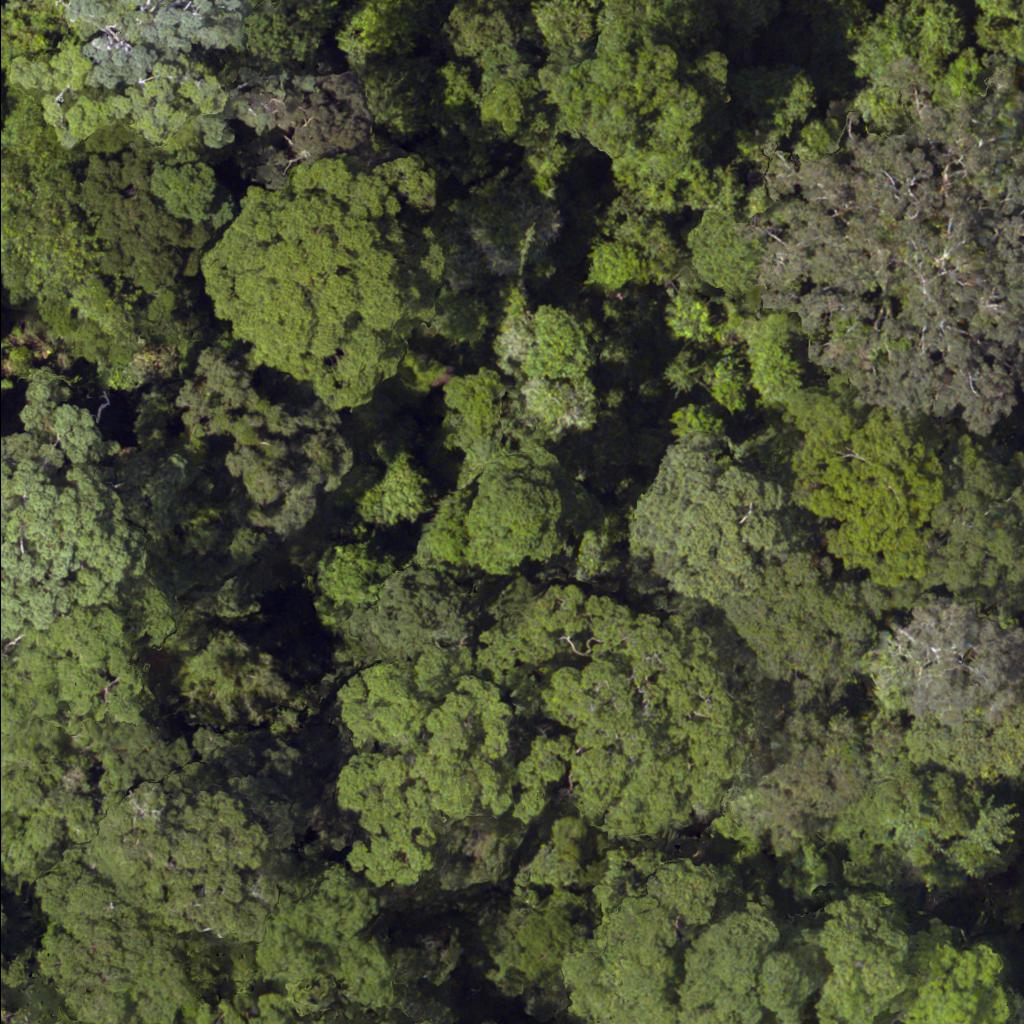crown: (769, 91, 1023, 408), (26, 781, 276, 1023), (208, 162, 441, 403), (490, 597, 732, 827), (0, 600, 147, 876), (344, 664, 508, 877), (174, 348, 355, 532), (0, 405, 122, 633), (255, 867, 403, 1019), (647, 445, 782, 591), (737, 560, 875, 688), (842, 780, 1002, 876), (740, 720, 866, 840), (79, 152, 180, 294), (921, 456, 1023, 593), (261, 70, 373, 189), (346, 563, 471, 661), (175, 632, 293, 723), (890, 938, 1002, 1023), (822, 909, 901, 1023), (487, 906, 587, 995), (150, 150, 216, 223), (362, 454, 423, 521), (762, 954, 822, 1022), (321, 546, 391, 601), (172, 1005, 325, 1023), (385, 1018, 431, 1023), (1016, 451, 1023, 472), (0, 919, 2, 936)
